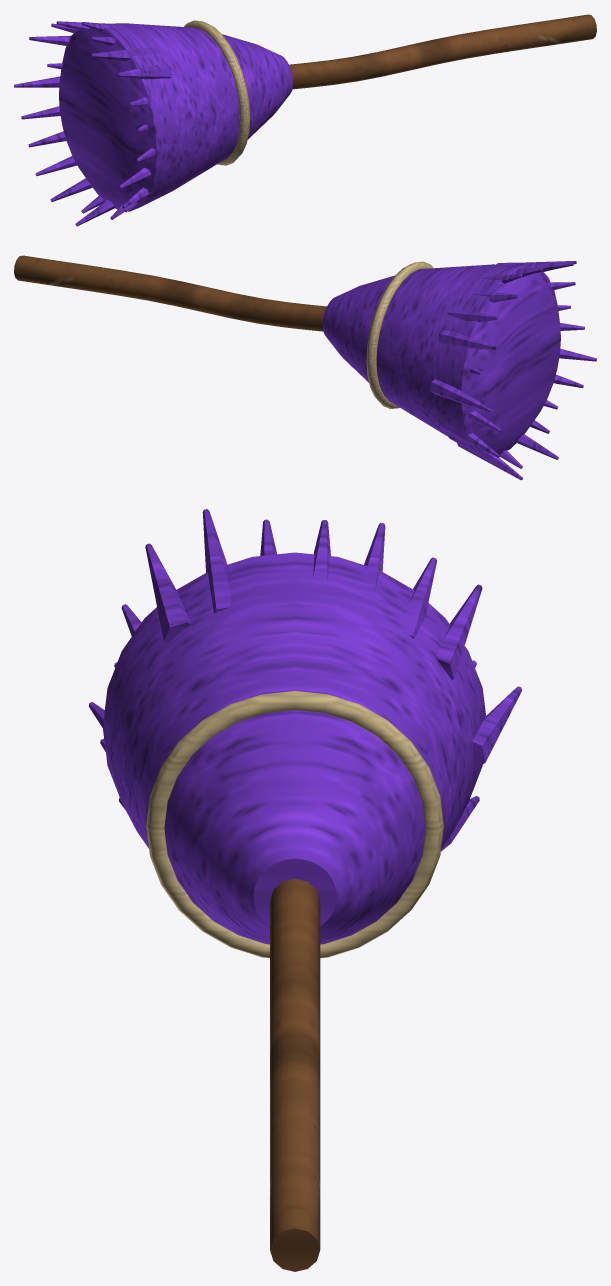
The model's file is Broom.fbx.
3 views of the same model, one above another, from view 1: azimuth 30°, elevation 25°; view 2: azimuth 150°, elevation 25°; view 3: azimuth 270°, elevation 25° (orthographic). The views are drawn at different scales.
Parts seen in each view (by area): view 1: Broom; view 2: Broom; view 3: Broom.
Boxes of the visible parts, <box> form: Broom: <box>14,14,596,226</box>; Broom: <box>14,255,596,480</box>; Broom: <box>88,509,521,1271</box>.
Bounding box in the file's own units: 1.44 × 0.5042 × 0.5181.
3 materials, 3 textured.
